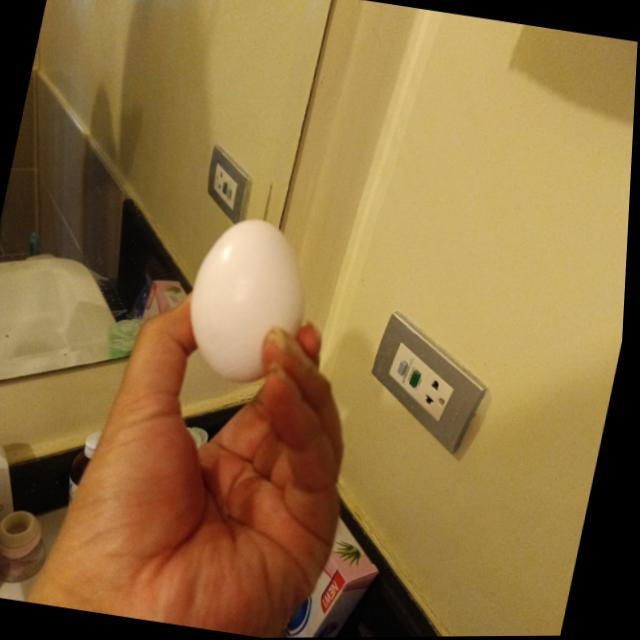egg: (180, 213, 325, 387)
